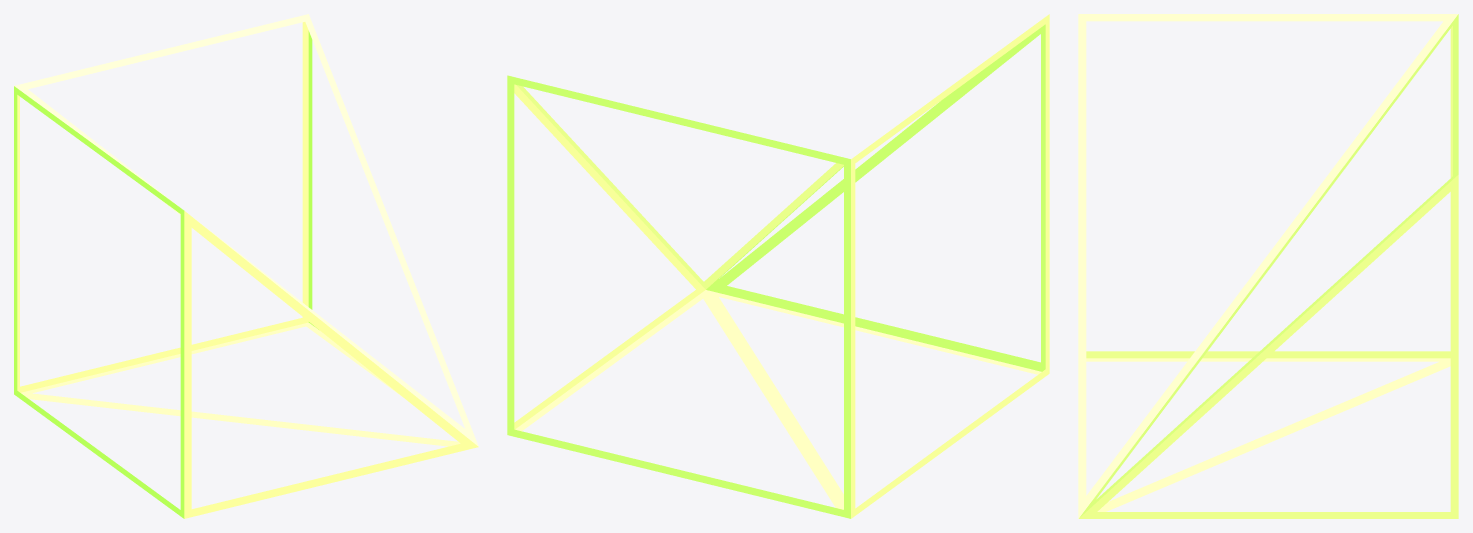
The model's file is r1c1_highlight_green2.glb.
3 renders of one model, left to right at view 1: azimuth 30°, elevation 25°; view 2: azimuth 150°, elevation 25°; view 3: azimuth 270°, elevation 25°, orthographic. The views are drawn at different scales.
Parts seen in each view (by area): view 1: r1c1_highlight_green2; view 2: r1c1_highlight_green2; view 3: r1c1_highlight_green2.
Boxes of the visible parts, x1,y1,x2,y2 form: r1c1_highlight_green2: [14, 14, 478, 518]; r1c1_highlight_green2: [507, 14, 1049, 518]; r1c1_highlight_green2: [1078, 14, 1458, 518].
Bounding box in the file's own units: 2 × 2 × 2.
